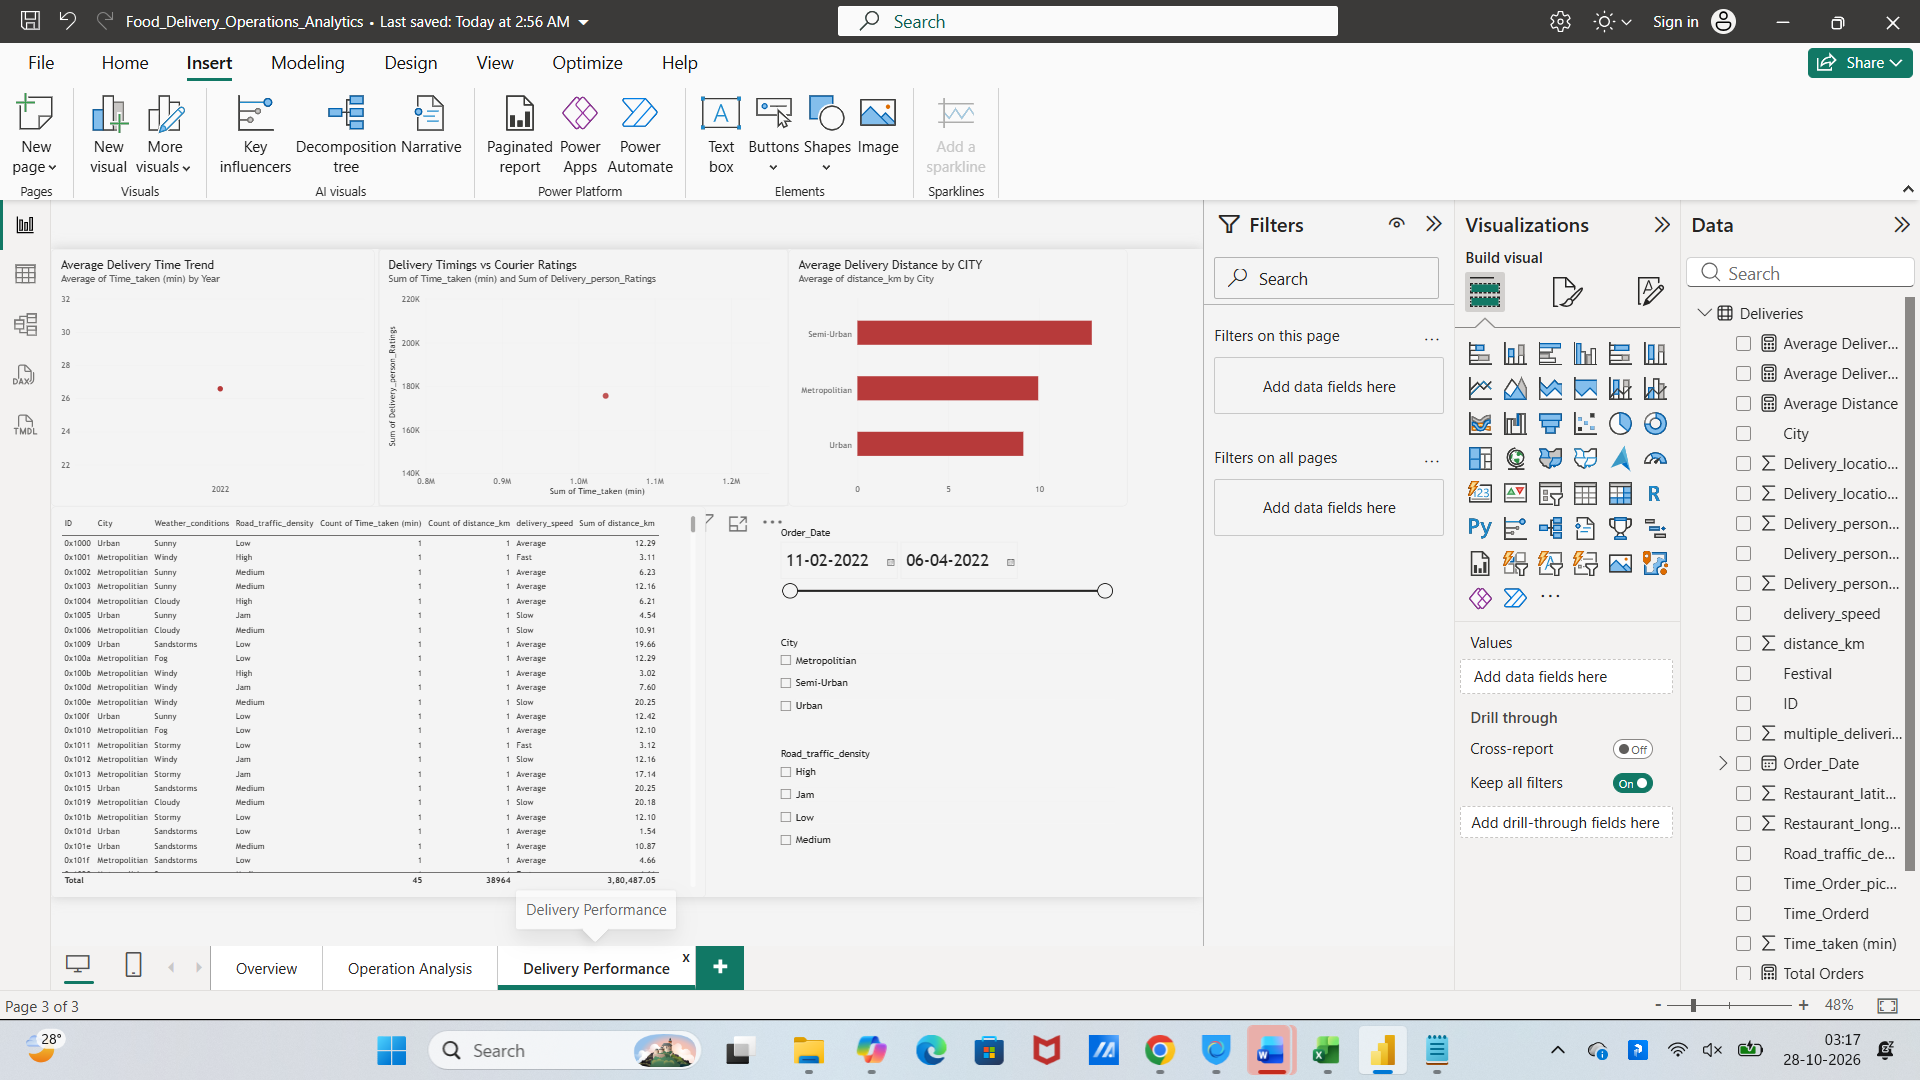

What the dashboard file says about the page in this screenshot:
{"tool":"powerbi","page":{"name":"Delivery Performance","canvas":[1920,1080],"ordinal":2},"visuals":[{"type":"lineChart","title":"Average Delivery Time Trend","fields":{"Category":["Deliveries.Order_Date.Variation.Date Hierarchy.Year","Deliveries.Order_Date.Variation.Date Hierarchy.Quarter","Deliveries.Order_Date.Variation.Date Hierarchy.Month","Deliveries.Order_Date.Variation.Date Hierarchy.Day"],"Y":["Avg(Deliveries.Time_taken (min))"]},"box":[0,0,539.5,429.1],"z":0},{"type":"clusteredBarChart","title":"Average Delivery Distance by CITY","fields":{"Category":["Deliveries.City"],"Y":["Avg(Deliveries.distance_km)"]},"box":[1228.9,0,564.5,429.1],"z":1000},{"type":"scatterChart","title":"Delivery Timings vs Courier Ratings","fields":{"X":["Sum(Deliveries.Time_taken (min))"],"Y":["Sum(Deliveries.Delivery_person_Ratings)"]},"box":[545.7,0,683.2,429.1],"z":2000},{"type":"tableEx","fields":{"Values":["Deliveries.ID","Deliveries.City","Deliveries.Weather_conditions","Deliveries.Road_traffic_density","Count(Deliveries.Time_taken (min))","CountNonNull(Deliveries.distance_km)","Deliveries.delivery_speed","Sum(Deliveries.distance_km)1"]},"box":[0,429.1,1091.4,651.9],"z":3000},{"type":"slicer","fields":{"Values":["Deliveries.Order_Date"]},"box":[1208.1,462.4,564.5,154.1],"z":4000},{"type":"slicer","fields":{"Values":["Deliveries.City"]},"box":[1208.1,645.7,564.5,185.4],"z":5000},{"type":"slicer","fields":{"Values":["Deliveries.Road_traffic_density"]},"box":[1208.1,831.1,564.5,195.8],"z":6000}]}

Visuals, with their boxes on the page's 1920x1080 design canvas (x1, y1, x2, y2). These are canvas units, not pixel positions in the 1920x1080 screenshot, which may show the page scaled, cropped or inside an application window:
"Average Delivery Time Trend" lineChart: <box>0,0,540,429</box>
"Average Delivery Distance by CITY" clusteredBarChart: <box>1229,0,1793,429</box>
"Delivery Timings vs Courier Ratings" scatterChart: <box>546,0,1229,429</box>
tableEx - Deliveries.ID x Deliveries.City: <box>0,429,1091,1081</box>
slicer - Deliveries.Order_Date: <box>1208,462,1773,616</box>
slicer - Deliveries.City: <box>1208,646,1773,831</box>
slicer - Deliveries.Road_traffic_density: <box>1208,831,1773,1027</box>
